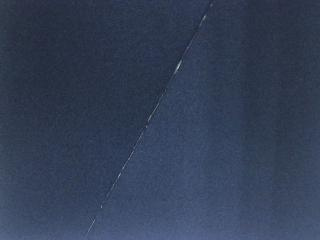crack: (79, 1, 223, 240)
